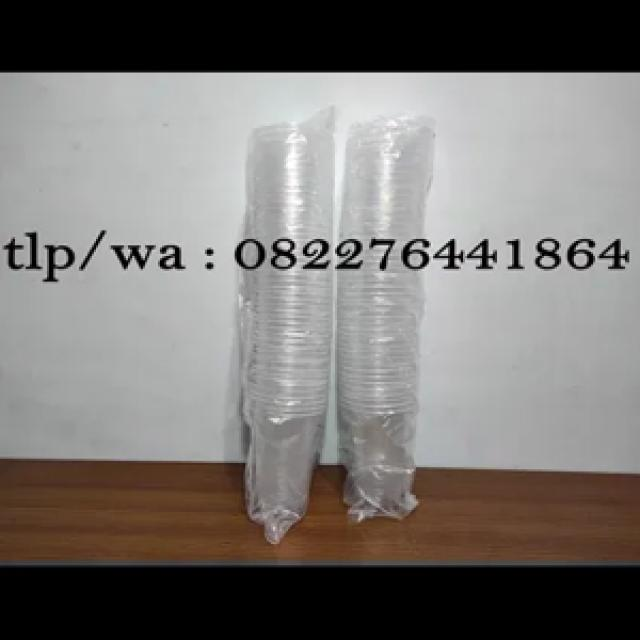plastic cup: (335, 113, 444, 527), (239, 113, 335, 529)
